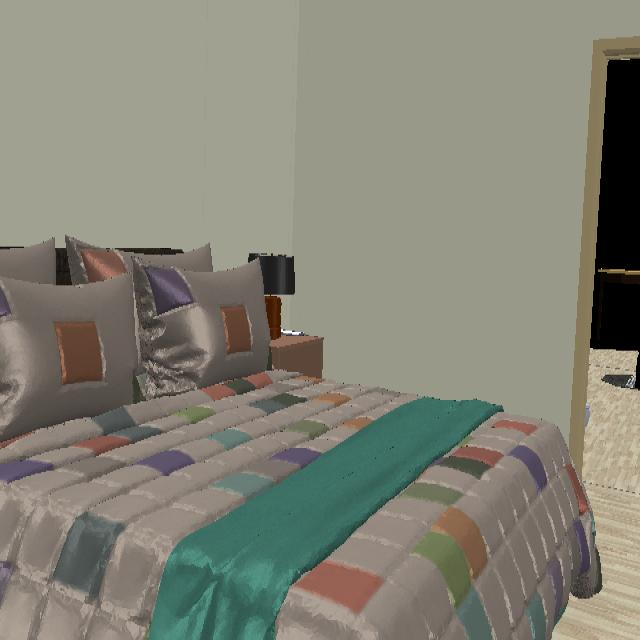bed: (0, 371, 601, 640)
book: (282, 328, 305, 336)
lamp: (248, 253, 295, 339)
nighttable: (270, 333, 324, 379)
pillow: (0, 272, 138, 443), (132, 260, 271, 400), (65, 236, 213, 285), (0, 237, 57, 285)
table: (602, 353, 640, 389), (598, 269, 640, 285)
